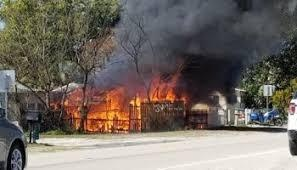fire: (54, 86, 132, 133)
